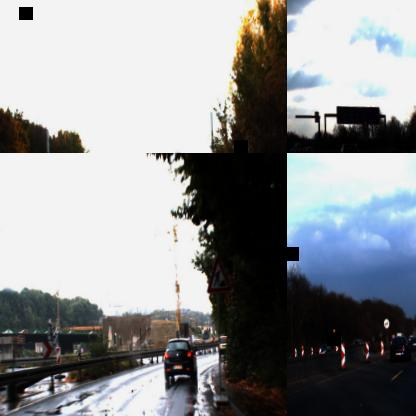CONSTRUCTION: (205, 254, 232, 292)
no overtaking (trucks): (362, 118, 369, 130)
restriction ends -overtaking -trucks--: (382, 318, 390, 329)
